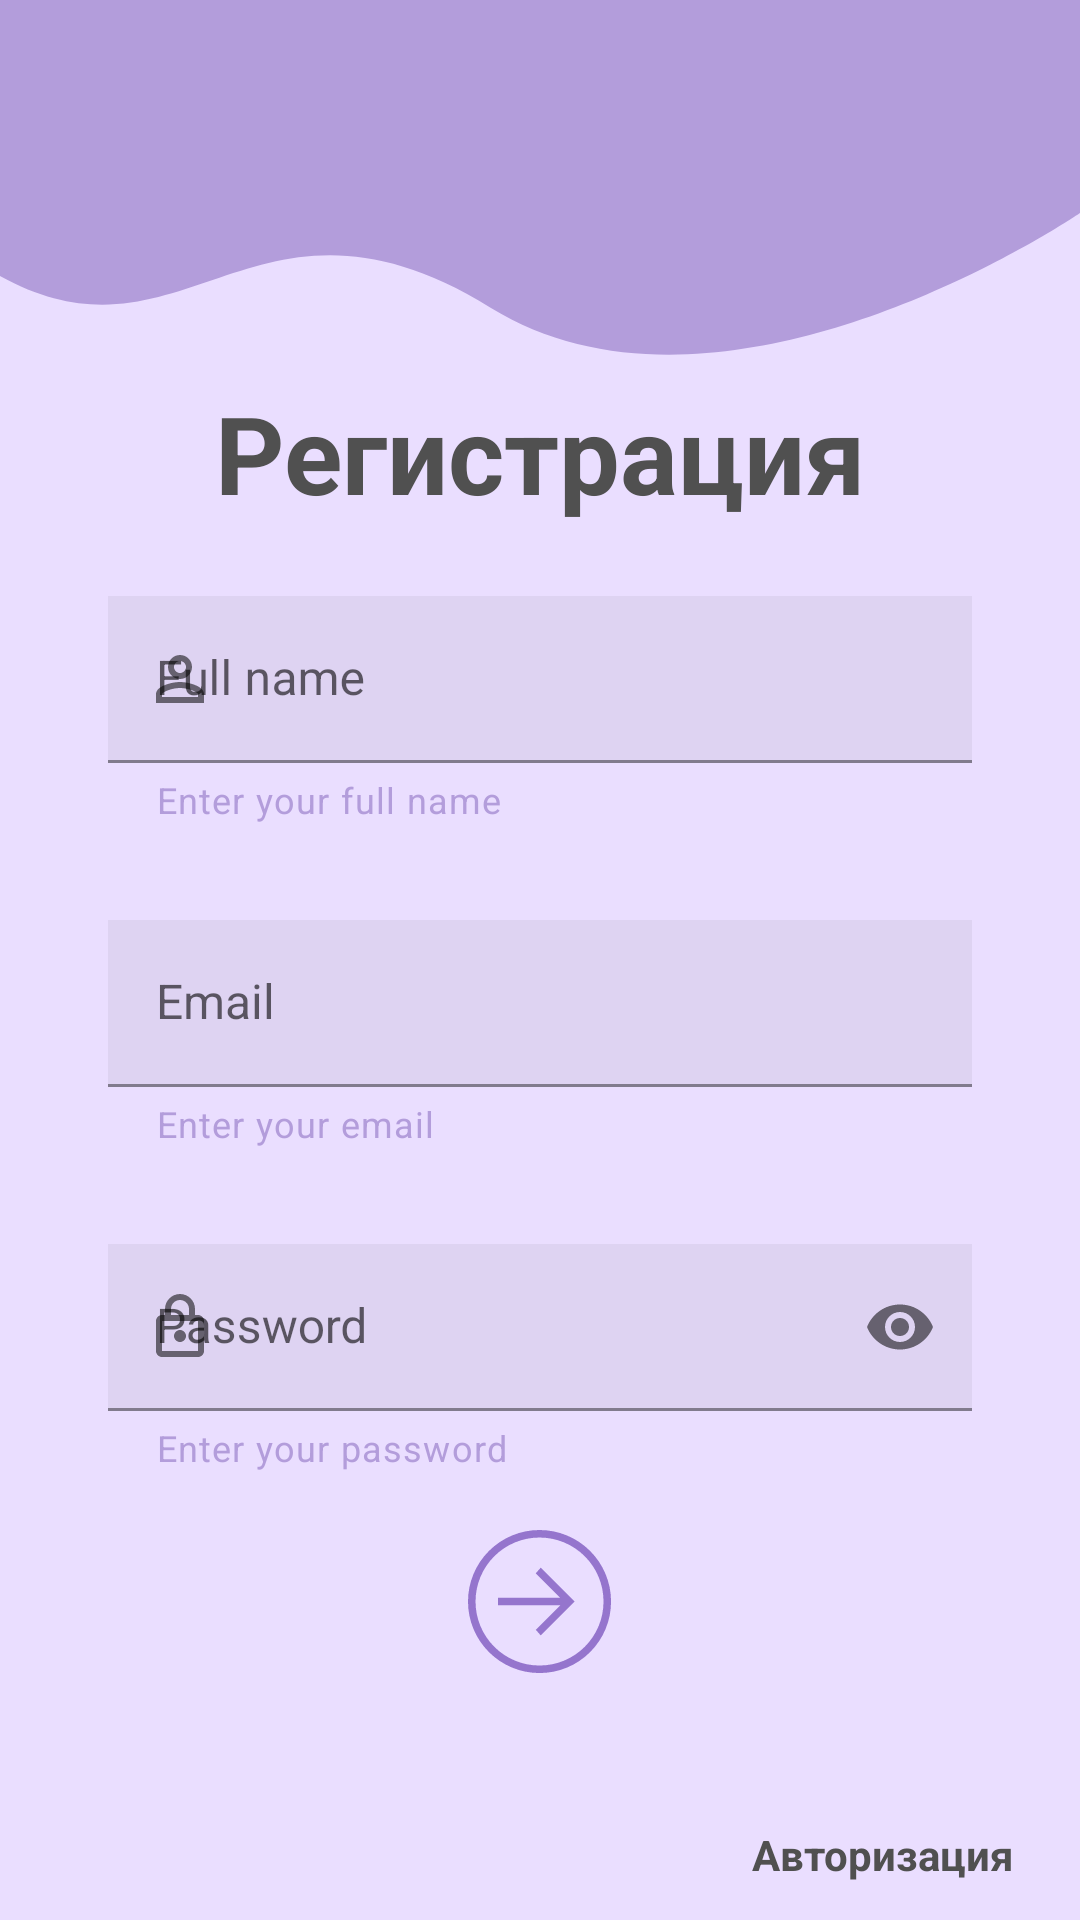

Screen size 1080 × 1920. Icon name, then its center in pixels as (x=x, y=y):
arrow next: (x=539, y=1601)
